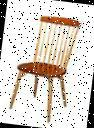Silla: (10, 12, 81, 124)
